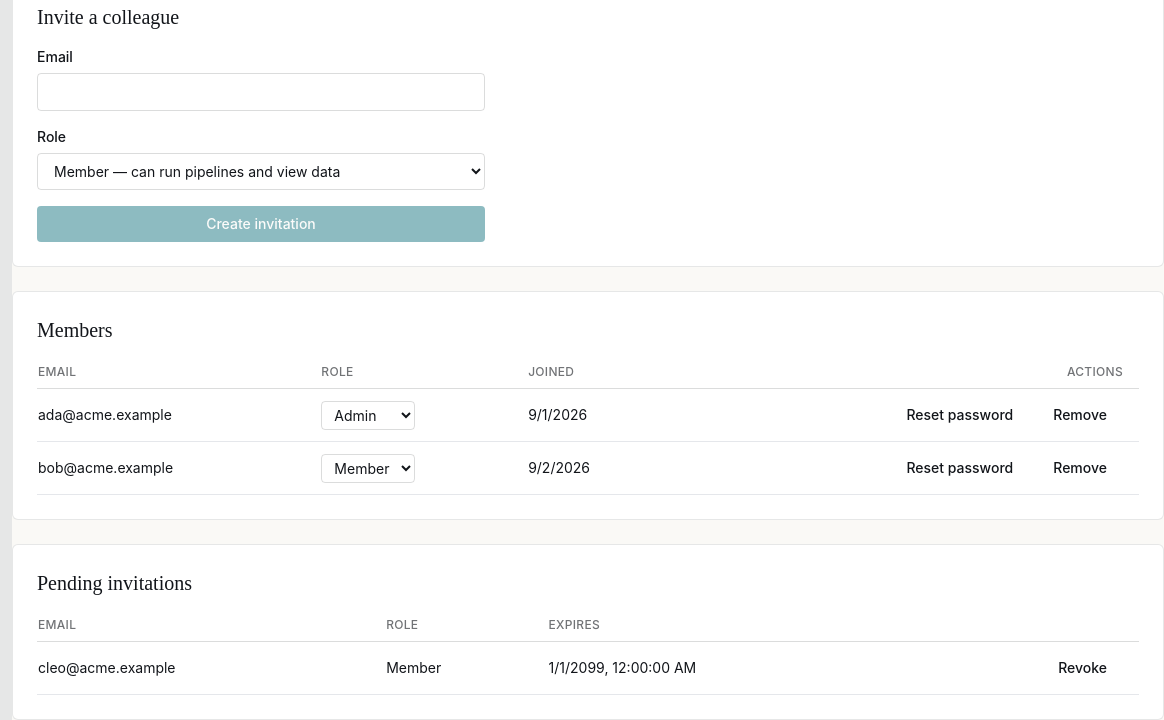
Test: Team › revokes a pending invitation
(page scrolled)
Expected: the text "cleo@acme.example" is shown, [37,642,385,694]
Step 1. Click the button "Revoke" → (1083, 668), box [1042,650,1123,686]
(page scrolled)
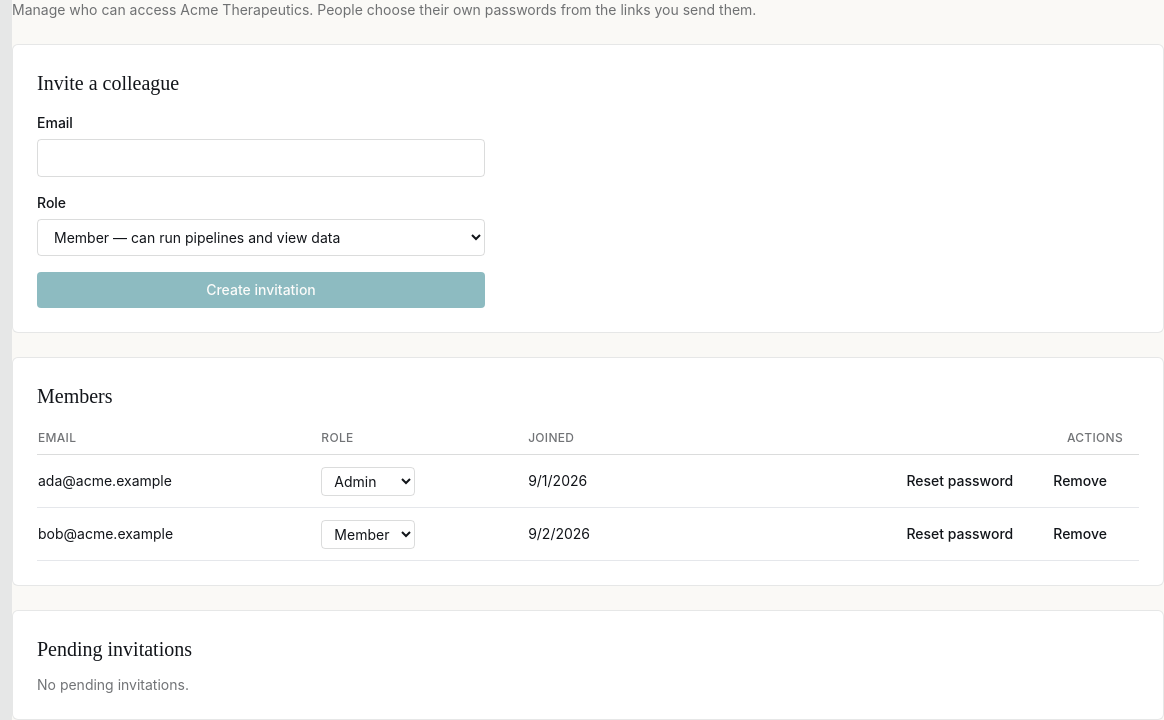
Expected: the text "No pending invitations." is shown, [37,676,189,693]
